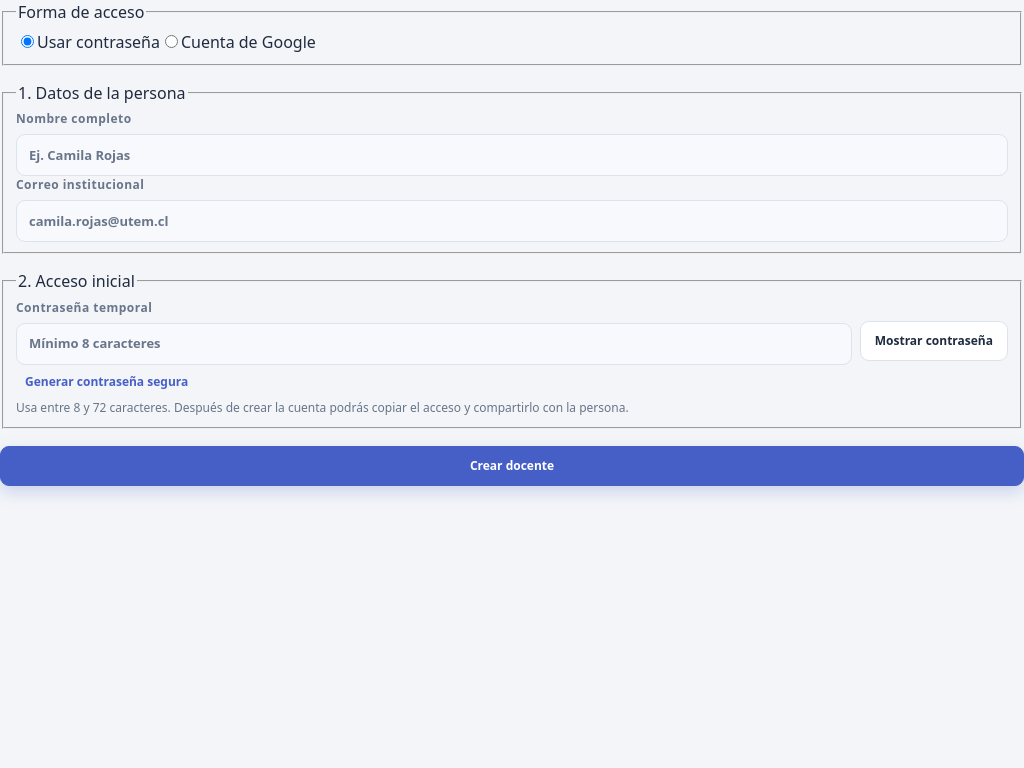
Scenario: crear docente › autoriza Google sin enviar ni inventar una contraseña
Click the radio button labelled "Cuenta de Google" at (172, 41), box left=165, top=35, right=178, bottom=48
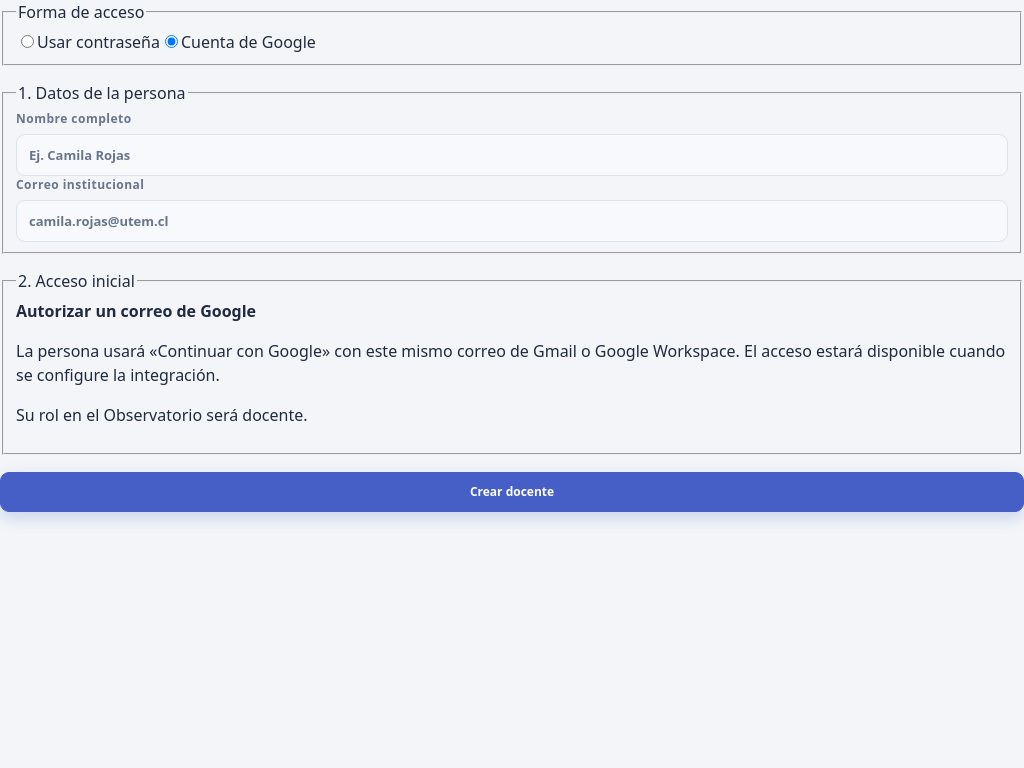
Type "Ana Pérez" into the field labelled "Nombre completo" at (512, 155), box left=16, top=134, right=1008, bottom=176
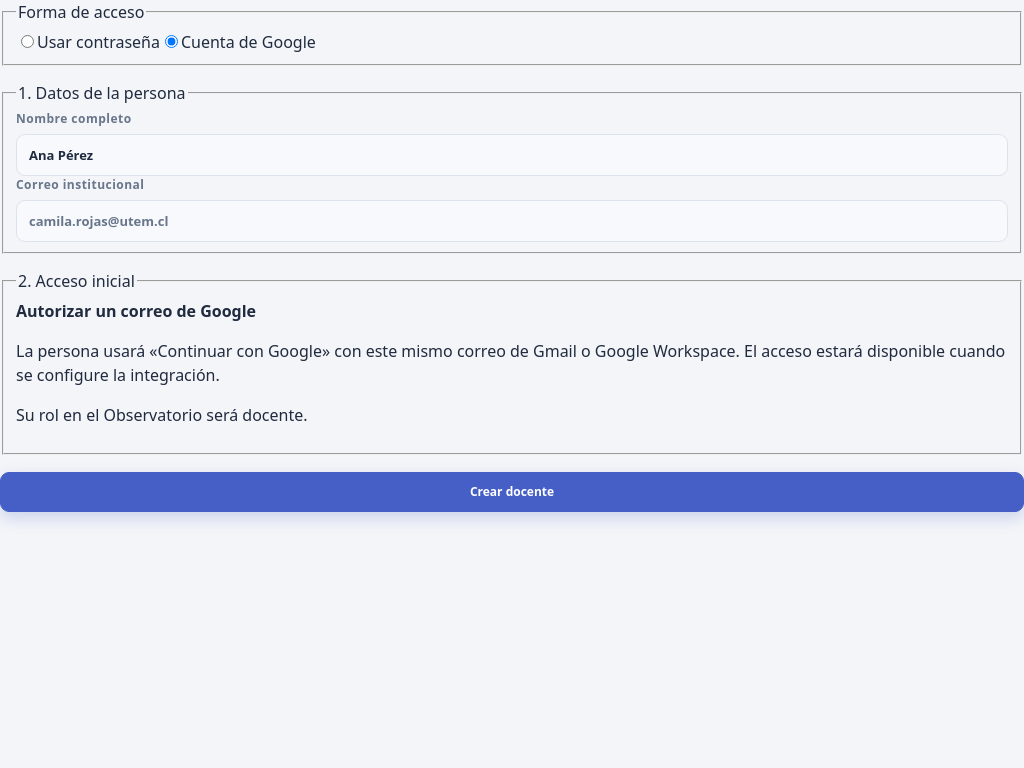
Type "ana@utem.cl" into the field labelled "Correo institucional" at (512, 221), box left=16, top=200, right=1008, bottom=242
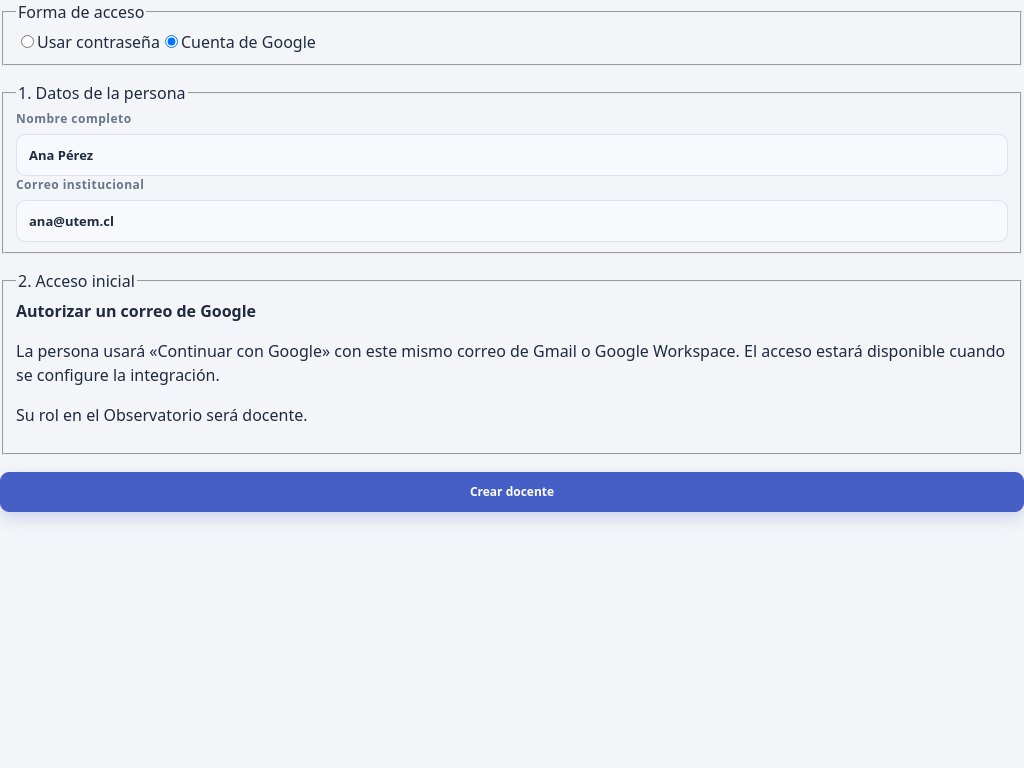
Click the button "Crear docente" at (512, 492), box left=0, top=472, right=1023, bottom=512
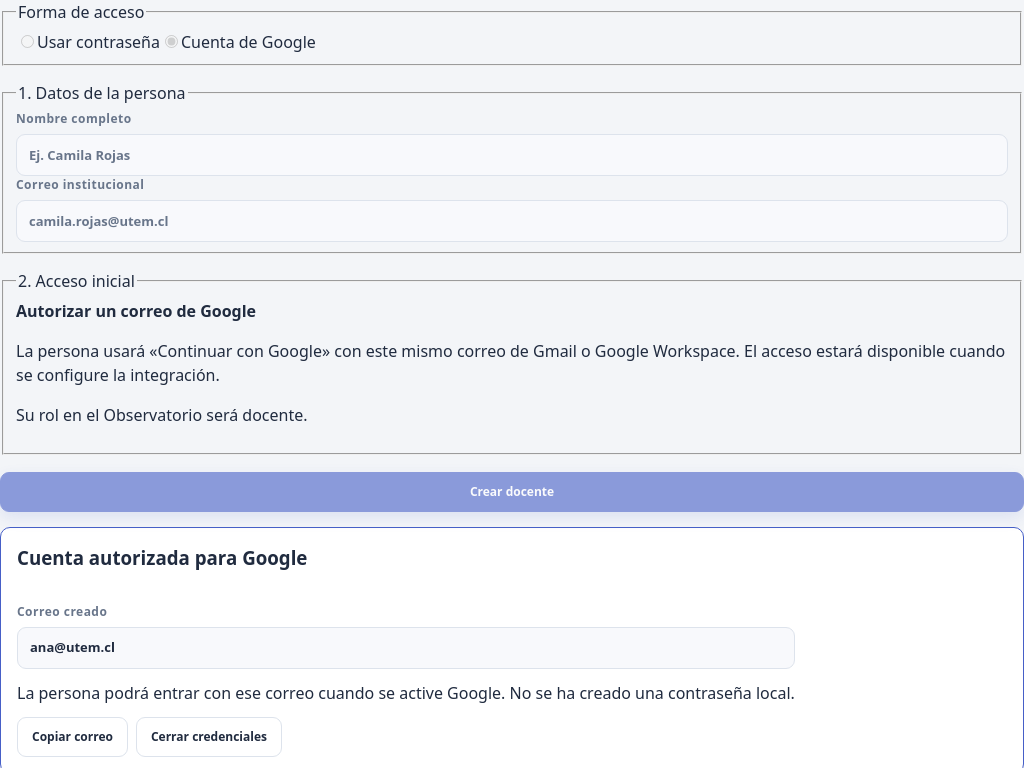
Expected: the heading "Cuenta autorizada para Google" is shown, left=17, top=545, right=307, bottom=570
Expected: the button "Copiar correo" is enabled, left=17, top=717, right=128, bottom=757
